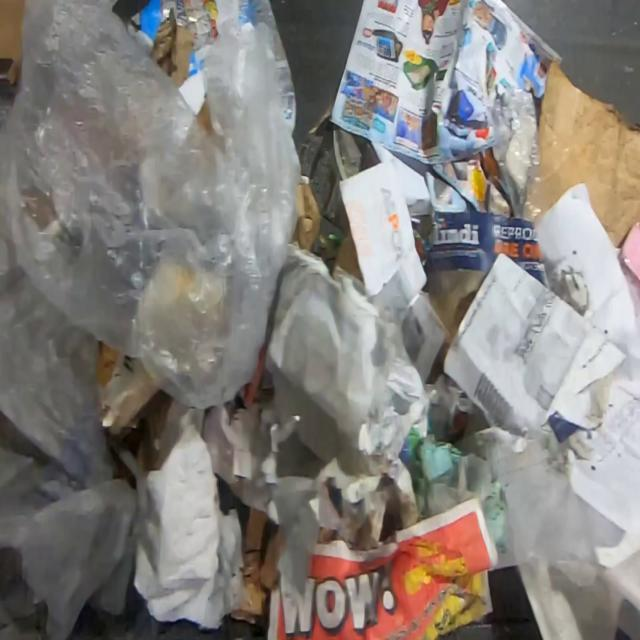cardboard: (538, 54, 640, 248), (150, 8, 198, 86)
soft_plastic: (0, 0, 304, 490), (0, 411, 154, 639), (486, 82, 544, 232), (0, 0, 25, 85), (294, 184, 323, 252)
